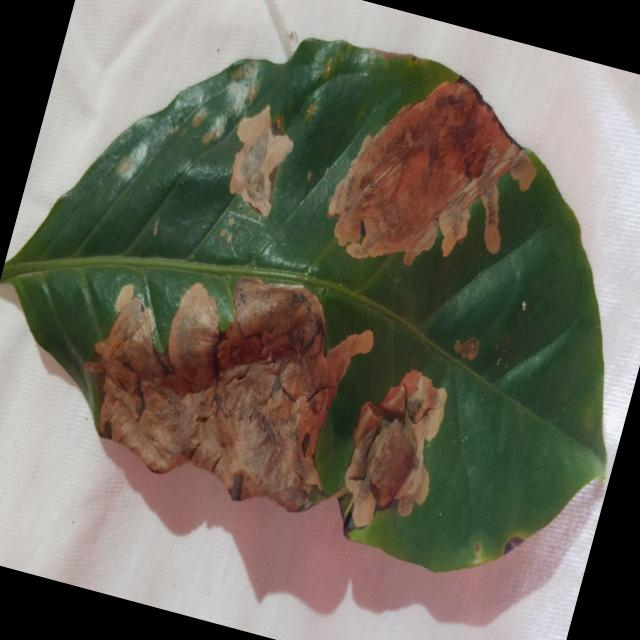KaratDaunKopi: (84, 277, 373, 511), (327, 82, 536, 265), (344, 370, 445, 526), (229, 106, 293, 216)
